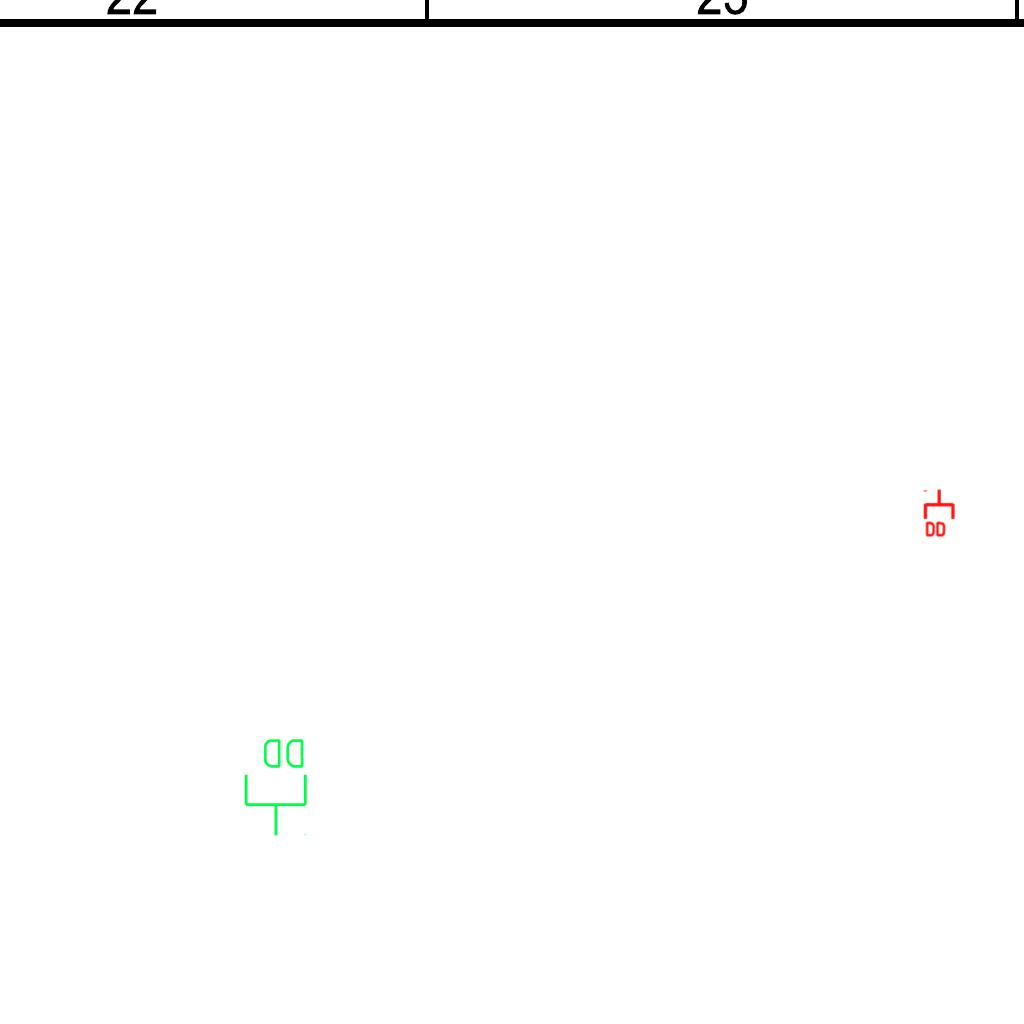Datenanschluss_zweifach: (242, 735, 311, 838), (923, 488, 957, 539)
